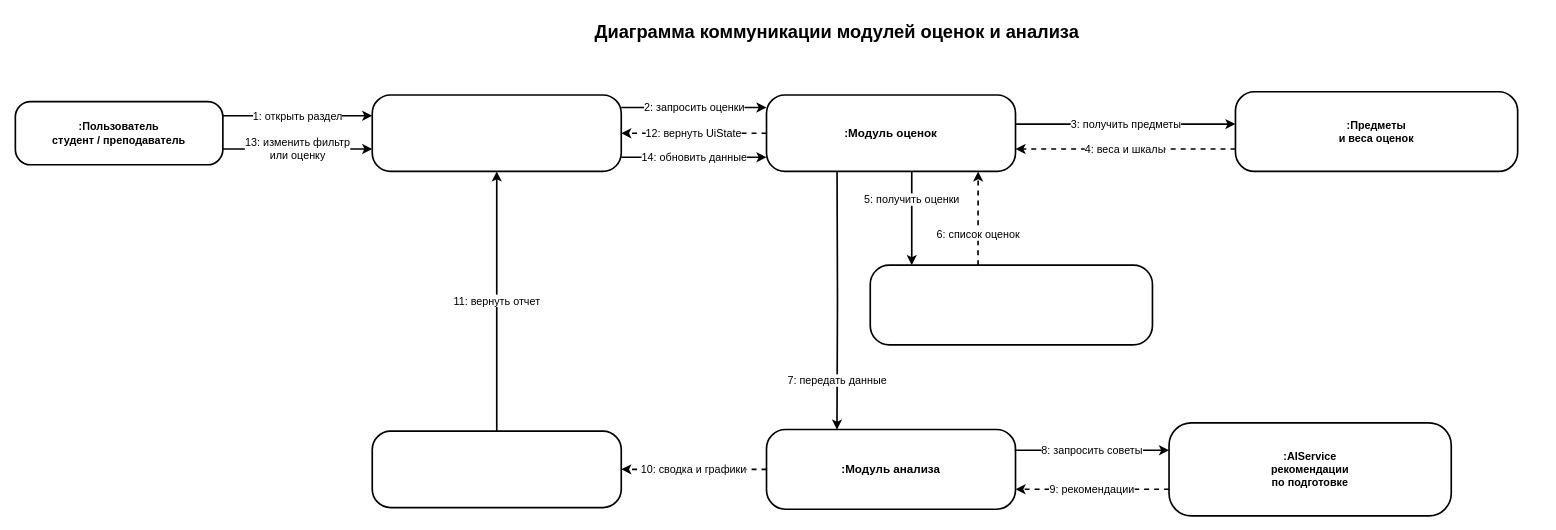
Image size: 1556x530. Some labels were removed from this diagram. Each missing label, with the centre of its shape:
:Кэш аналитики и отчеты: point 496,469
:Хранилище оценок: point 1011,304
:Экран оценок и анализа: point 496,133
